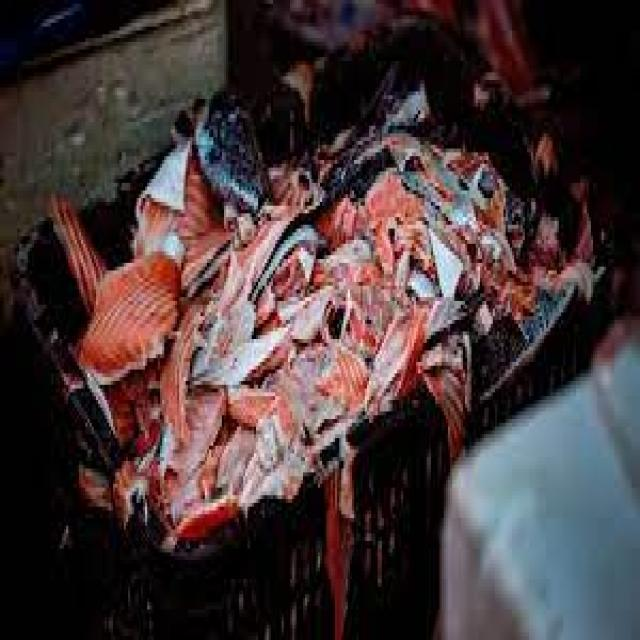Organik: (50, 33, 630, 572)
